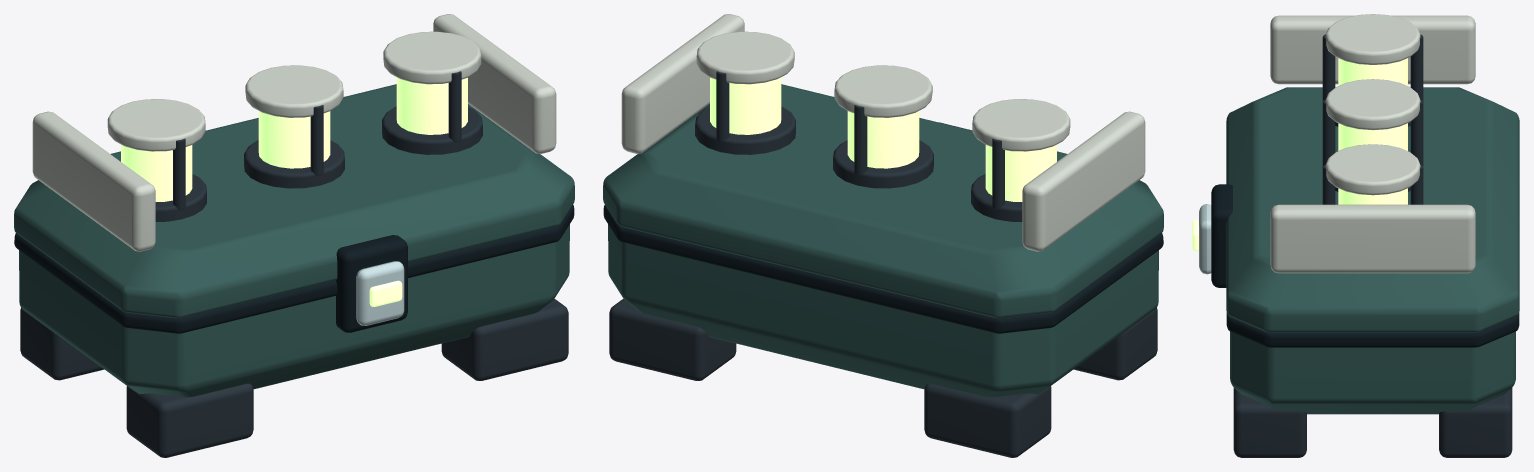
The model's file is salvage_cache.glb.
3 views of the same model, side by side, from view 1: azimuth 30°, elevation 25°; view 2: azimuth 150°, elevation 25°; view 3: azimuth 270°, elevation 25° (orthographic). The views are drawn at different scales.
Visible parts, largest first — view 1: Specimen transport rack; view 2: Specimen transport rack; view 3: Specimen transport rack.
Boxes of the visible parts, box(x1,y1,x2,y2) form: Specimen transport rack: box(14, 14, 574, 457); Specimen transport rack: box(603, 14, 1163, 457); Specimen transport rack: box(1192, 14, 1519, 457).
Bounding box in the file's own units: 1.38 × 0.8 × 0.893.
